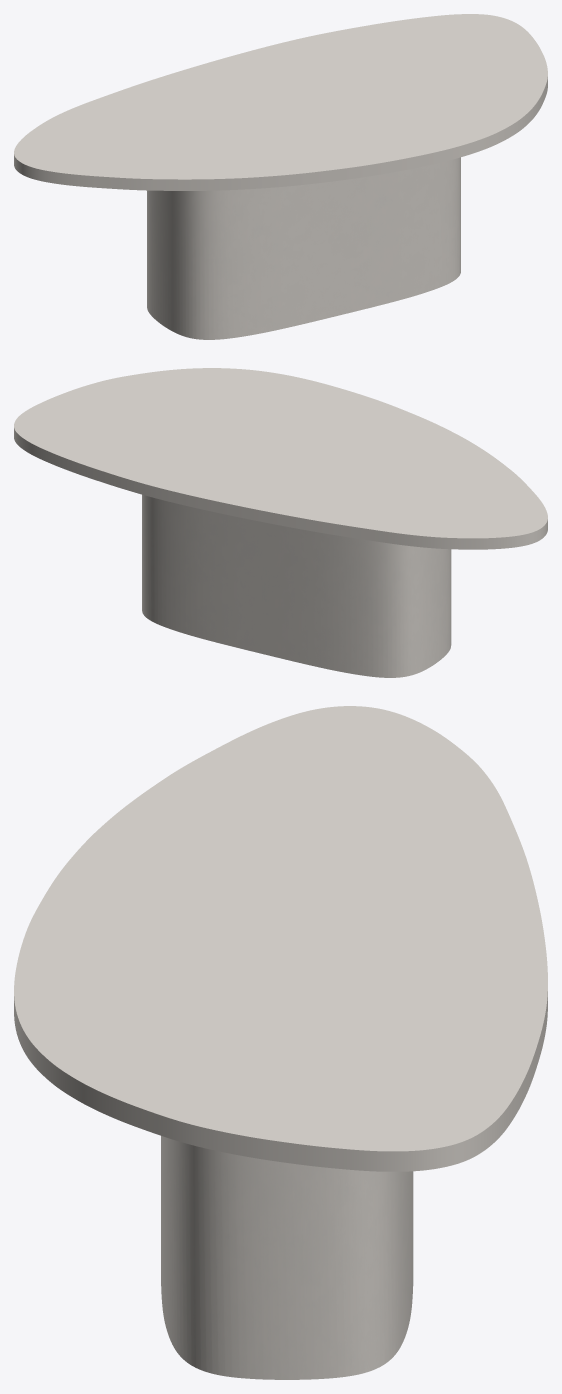
The model's file is pearlwhite_pebbletop_standard_fixed.glb.
3 views of the same model, one above another, from view 1: azimuth 30°, elevation 25°; view 2: azimuth 150°, elevation 25°; view 3: azimuth 270°, elevation 25° (orthographic). The views are drawn at different scales.
Visible parts, largest first — view 1: standard_pebbletop, fixed; view 2: standard_pebbletop, fixed; view 3: standard_pebbletop, fixed.
Boxes of the visible parts, box(x1,y1,x2,y2) form: standard_pebbletop: box(14, 14, 547, 190); fixed: box(147, 157, 460, 339); standard_pebbletop: box(14, 368, 547, 549); fixed: box(142, 494, 451, 677); standard_pebbletop: box(14, 706, 547, 1171); fixed: box(161, 1136, 413, 1379).
Bounding box in the file's own units: 7.5 × 2.51 × 3.8.
Materials: 1 (1 with a texture image).
